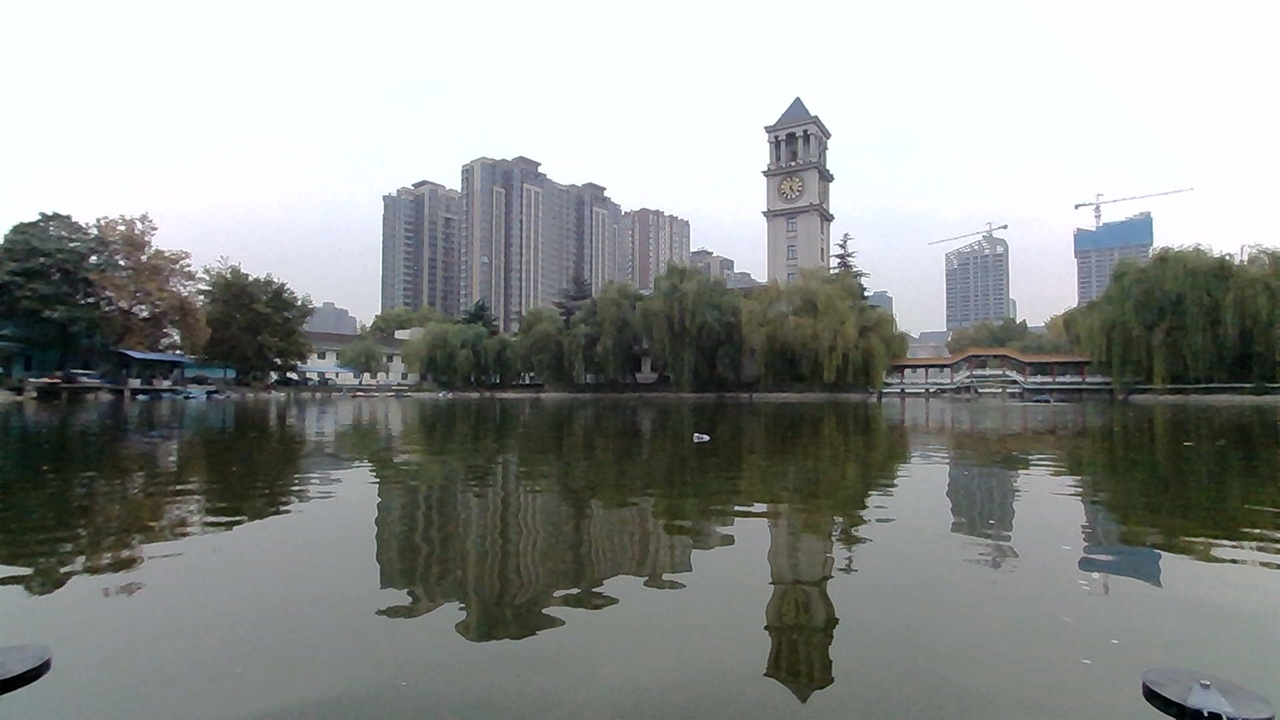bottle: (686, 418, 725, 448)
